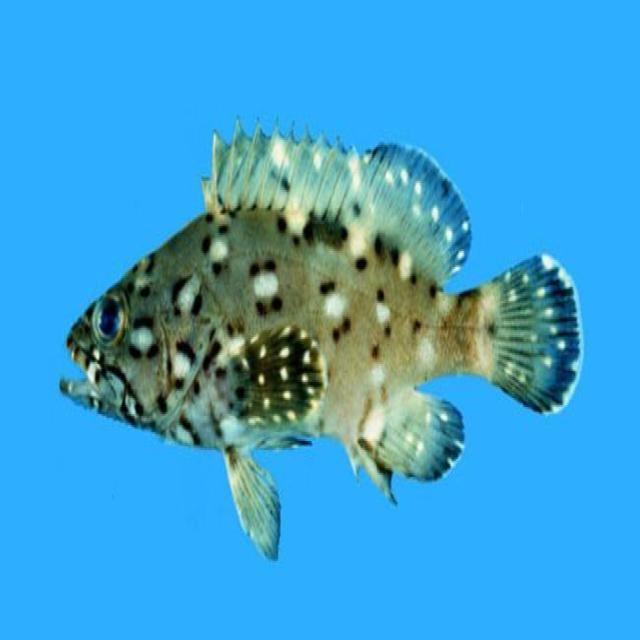ikan: (58, 113, 583, 561)
